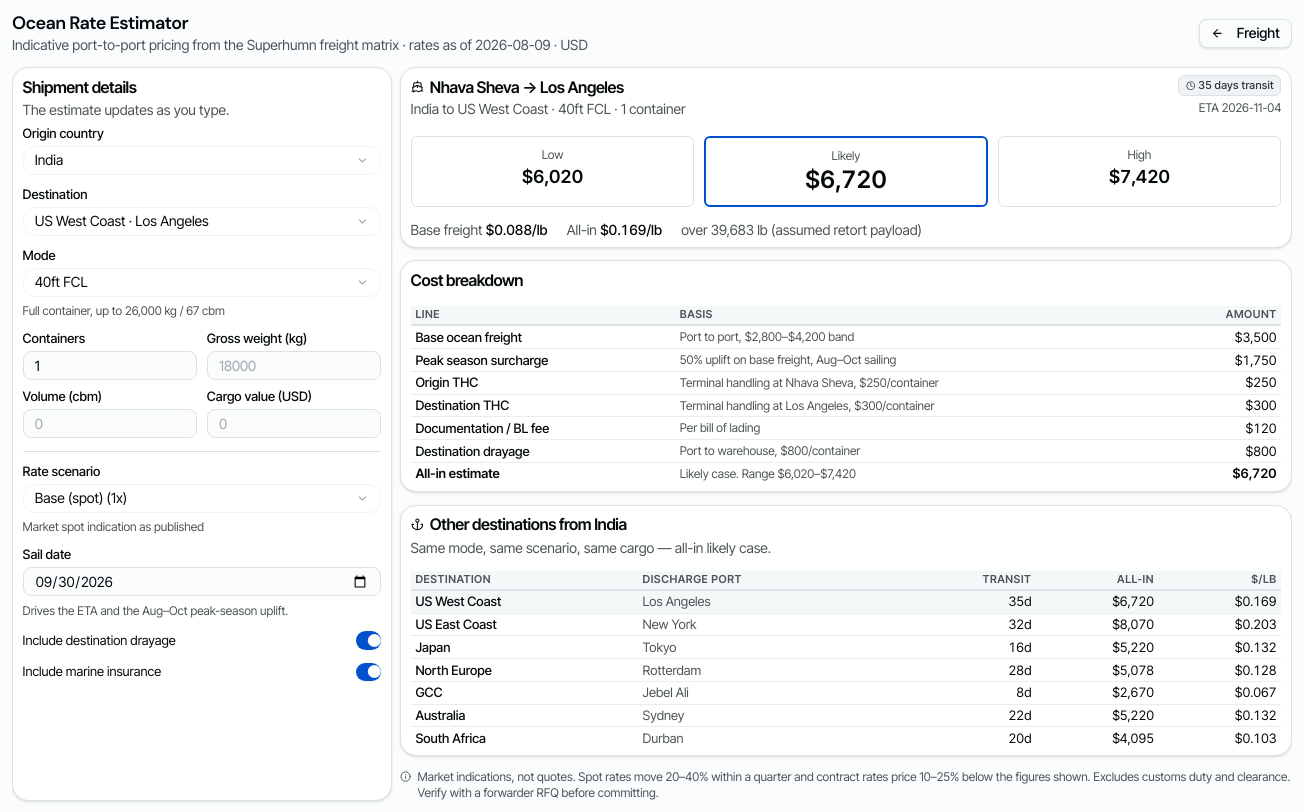
Scenario: RateEstimator › switches lane when a comparison row is clicked
The width and height of the screenshot is (1304, 812).
Type "2026-03-01" into the date field labelled "Sail date" at (202, 582), box [23,567,381,596]
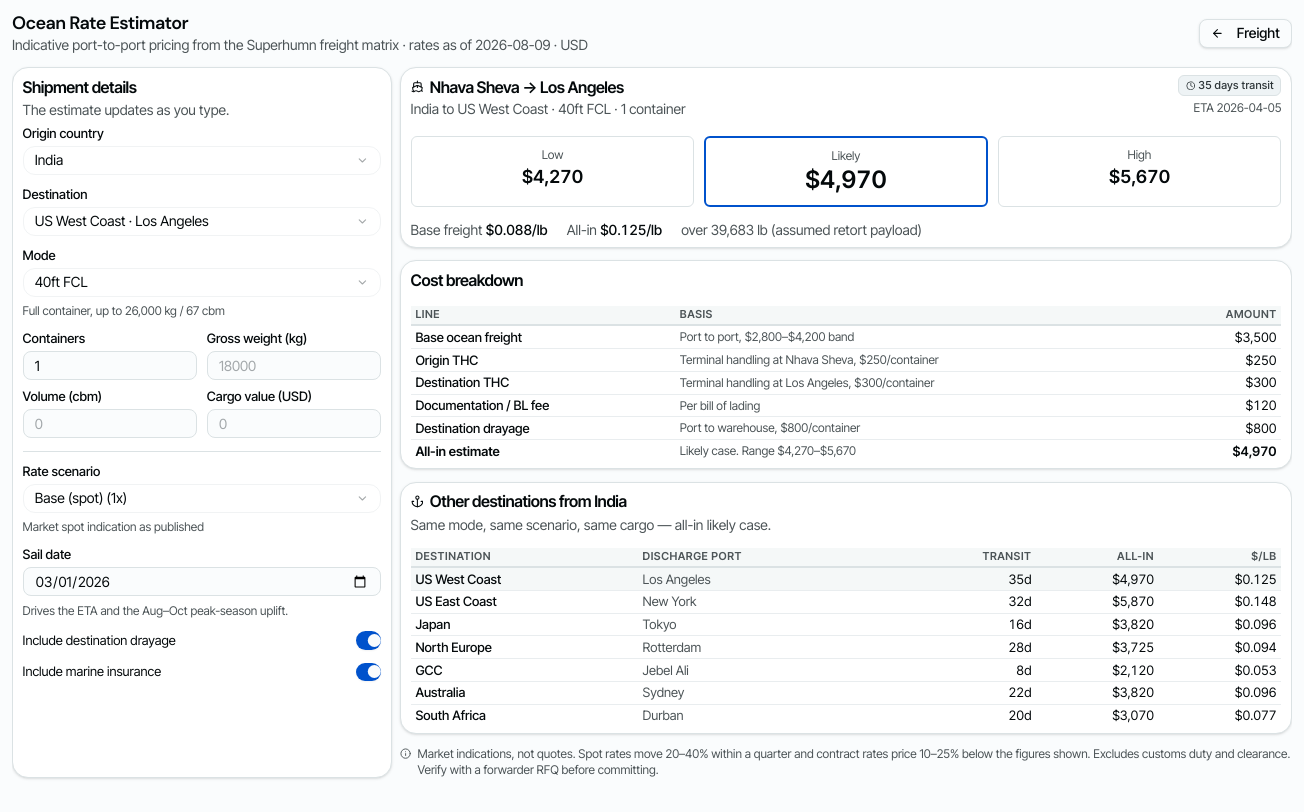
Click the button "GCC" at (429, 670), box [415,661,443,679]
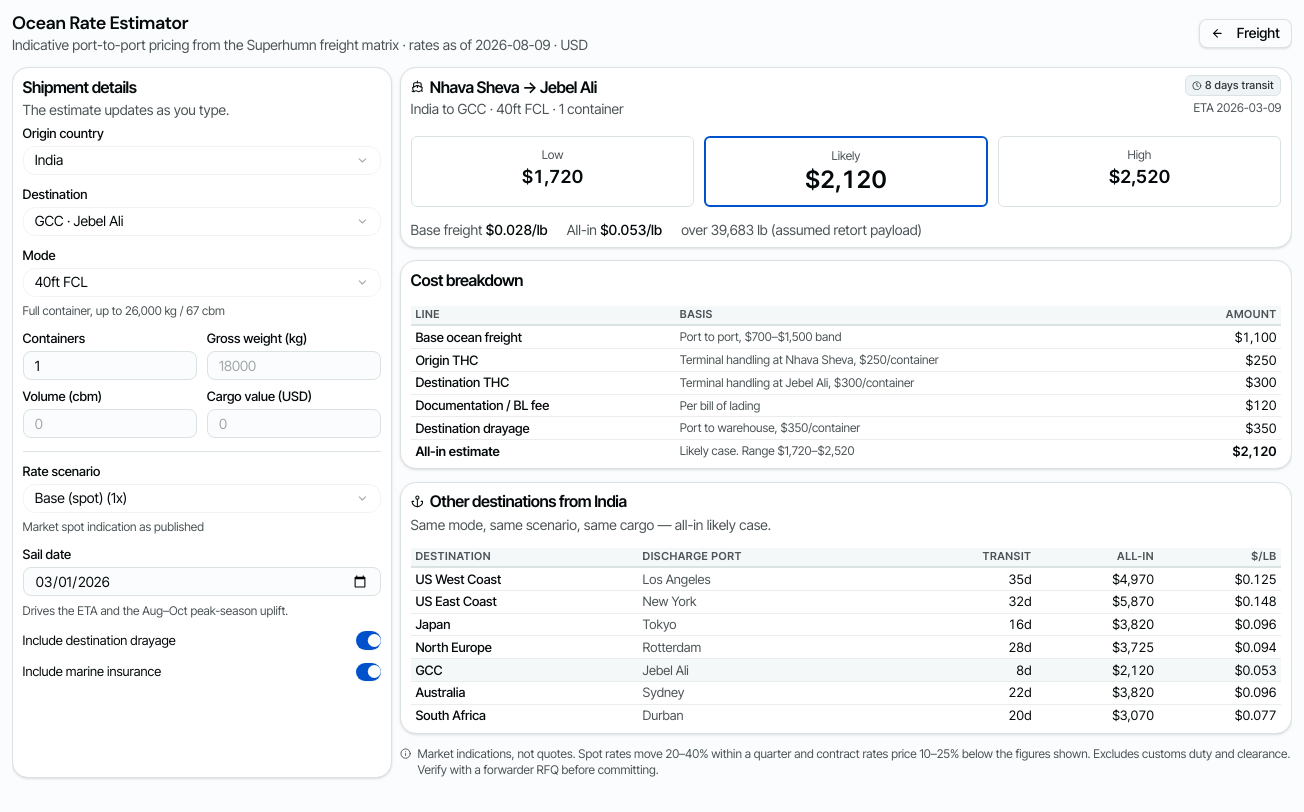
Expected: the text "Nhava Sheva → Jebel Ali" is shown, [411,75,624,99]
Expected: the text "8 days transit" is shown, [1185,75,1281,96]
